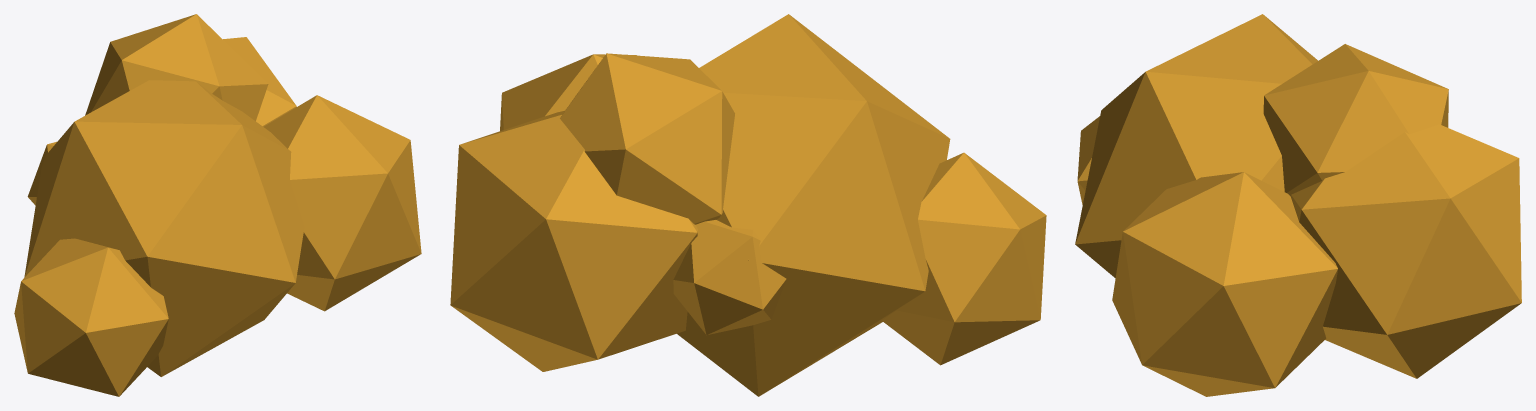
The model's file is rock_1.fbx.
3 renders of one model, left to right at view 1: azimuth 30°, elevation 25°; view 2: azimuth 150°, elevation 25°; view 3: azimuth 270°, elevation 25°, orthographic. The views are drawn at different scales.
Parts seen in each view (by area): view 1: rock_1, rock.004, rock.002, rock.006, rock.005, rock.007; view 2: rock_1, rock.005, rock.002, rock.006, rock.007, rock.004; view 3: rock.005, rock.004, rock_1, rock.006, rock.002.
Boxes of the visible parts, x1,y1,x2,y2 form: rock_1: (24,80,304,376); rock.004: (264,95,421,311); rock.002: (14,238,168,396); rock.006: (85,14,268,121); rock.005: (223,37,296,126); rock.007: (27,141,56,205); rock_1: (677,14,950,396); rock.005: (450,110,697,371); rock.002: (881,152,1046,365); rock.006: (560,53,734,224); rock.007: (673,220,786,335); rock.004: (500,54,636,130); rock.005: (1290,124,1521,378); rock.004: (1112,172,1337,396); rock_1: (1075,14,1317,278); rock.006: (1263,44,1448,195); rock.002: (1077,116,1099,204).
Size of the model in its own units: 6.41 by 3.94 by 5.27.
